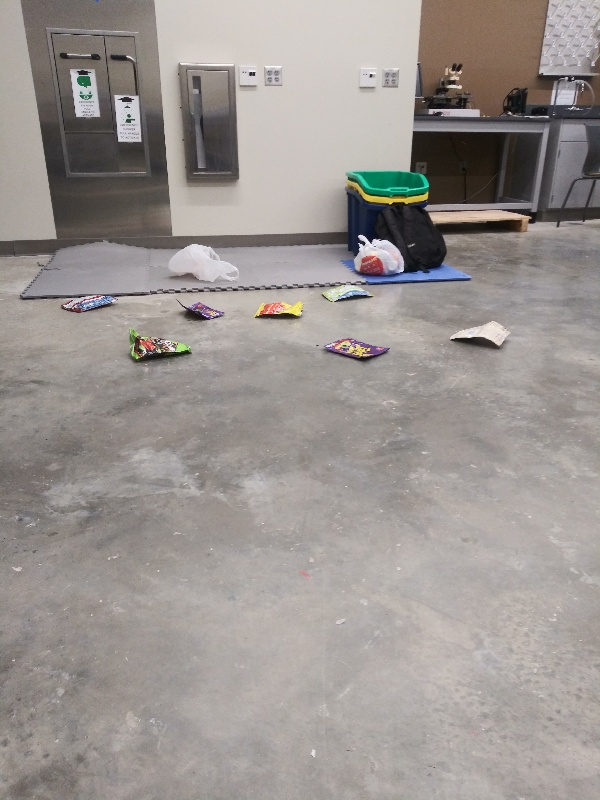bag: (123, 324, 195, 362), (445, 319, 515, 349), (320, 335, 392, 363), (172, 295, 230, 321), (58, 293, 123, 314), (317, 283, 376, 304), (251, 301, 306, 321)
